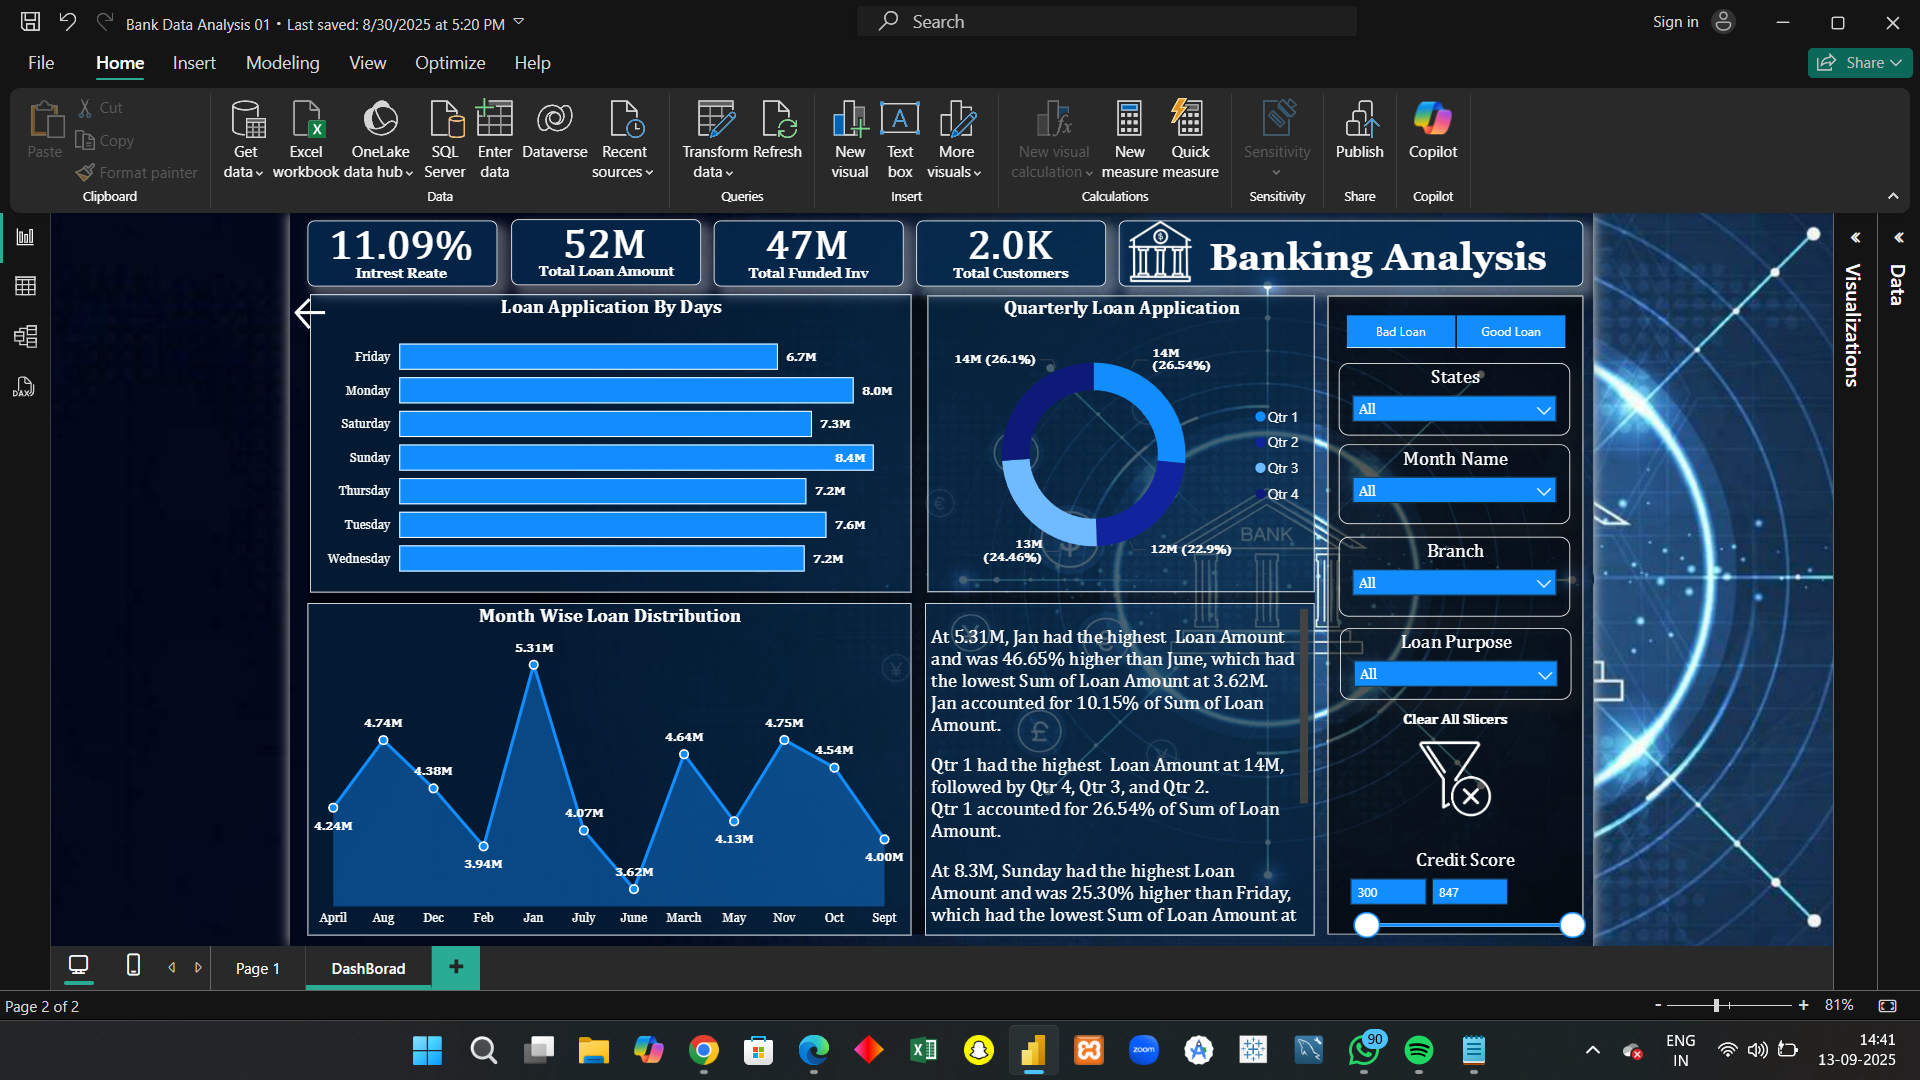

This screenshot's page, from the dashboard's own definition file:
{"tool":"powerbi","page":{"name":"DashBorad","canvas":[1280,720],"ordinal":1},"visuals":[{"type":"shape","box":[813.5,7.2,456.2,65],"z":0},{"type":"shape","box":[190,193.8,60,111.2],"z":0,"group":"g1"},{"type":"shape","box":[17.5,80,405,292.5],"z":1000,"group":"g1"},{"type":"shape","box":[17.5,81.2,988.8,627.5],"z":1000},{"type":"group","id":"g1","title":"Good Loan Chart","box":[17.5,80,405,292.5],"z":2000},{"type":"donutChart","title":"Good Loan VS Bad Loan ","fields":{"Category":["Table1.Good Vs Bad Loan"],"Y":["Sum(Table1.Loan Amount)"]},"box":[17.5,81.2,405,291.2],"z":2000,"group":"g1"},{"type":"card","fields":{"Values":["Sum(Table1.Loan Amount)"]},"box":[155,202.5,135,81.2],"z":3000,"group":"g1"},{"type":"areaChart","title":"Month Wise Loan Distribution","fields":{"Category":["Table1.Month Name"],"Y":["Sum(Table1.Loan Amount)"]},"box":[17.5,382.5,592.5,326.2],"z":3000},{"type":"barChart","title":"Loan Application  By Sates","fields":{"Category":["Table1.State Abbr"],"Y":["Sum(Table1.Loan Amount)"]},"box":[620,382.5,386.2,326.2],"z":4000},{"type":"columnChart","title":" Client Income Range Wise Loan Application","fields":{"Category":["Table1.Client Income Range"],"Y":["Sum(Table1.Loan Amount)"]},"box":[433.8,81.2,572.5,291.2],"z":5000},{"type":"shape","box":[1018.8,81.2,251.2,627.5],"z":6000},{"type":"slicer","title":"Month Name","fields":{"Values":["Table1.Month Name"]},"box":[1030,227.5,227.5,78.8],"z":7000},{"type":"slicer","title":"States","fields":{"Values":["Table1.State Abbr"]},"box":[1030,147.5,227.5,71.2],"z":8000},{"type":"slicer","fields":{"Values":["Table1.Good Vs Bad Loan"]},"box":[1011.2,93.8,265,46.2],"z":9000},{"type":"slicer","title":"Loan Purpose","fields":{"Values":["Table1.Purpose Category"]},"box":[1031.2,407.5,227.5,70],"z":10000},{"type":"slicer","title":"Branch","fields":{"Values":["Table1.Branch Name_x"]},"box":[1030,317.5,227.5,78.8],"z":11000},{"type":"slicer","title":"Credit Score","fields":{"Values":["Dim Client.Credit Score"]},"box":[1028.2,624.5,251.5,95.7],"z":12000},{"type":"shape","box":[17.5,7.5,186.2,65],"z":13000},{"type":"card","fields":{"Values":["Avg(Table1.Int Rate)"]},"box":[15,6.2,188.8,45],"z":14000},{"type":"textbox","box":[20,43.8,178.8,40],"z":15000},{"type":"shape","box":[217.3,6.2,186.2,65],"z":16000},{"type":"card","fields":{"Values":["Sum(Table1.Loan Amount)"]},"box":[214.8,5,188.8,45],"z":17000},{"type":"textbox","box":[239.5,42.5,163.8,40],"z":18000},{"type":"shape","box":[416,7.5,186.2,65],"z":19000},{"type":"card","fields":{"Values":["Sum(Table1.Funded Amount Inv)"]},"box":[413.5,6.2,188.8,45],"z":20000},{"type":"textbox","box":[427.5,43.8,163.8,40],"z":21000},{"type":"shape","box":[614.7,7.5,186.2,65],"z":22000},{"type":"card","fields":{"Values":["CountNonNull(Table1.Account ID)"]},"box":[612.2,6.2,188.8,45],"z":23000},{"type":"textbox","box":[626.1,43.8,163.8,40],"z":24000},{"type":"image","box":[813.5,0.9,80,72.5],"z":25000},{"type":"textbox","box":[873.5,17.2,388.8,62.5],"z":26000},{"type":"image","title":"Clear All Slicers","box":[1077.5,490,132.5,112.5],"z":27000},{"type":"image","title":"i for Good Loan","box":[378.8,82.5,43.8,40],"z":28000},{"type":"image","title":"i for income","box":[962.5,83.8,43.8,40],"z":29000},{"type":"image","title":"i for staes","box":[962.5,382.5,43.8,40],"z":30000},{"type":"image","title":"i for Month","box":[566.2,382.5,43.8,40],"z":31000}]}

Visuals, with their boxes on the page's 1280x720 design canvas (x1, y1, x2, y2). These are canvas units, not pixel positions in the 1920x1080 screenshot, which may show the page scaled, cropped or inside an application window:
shape: bbox=(814, 7, 1270, 72)
shape: bbox=(190, 194, 250, 305)
shape: bbox=(18, 80, 422, 372)
shape: bbox=(18, 81, 1006, 709)
"Good Loan Chart" group: bbox=(18, 80, 422, 372)
"Good Loan VS Bad Loan " donutChart: bbox=(18, 81, 422, 372)
card - Sum(Table1.Loan Amount): bbox=(155, 202, 290, 284)
"Month Wise Loan Distribution" areaChart: bbox=(18, 382, 610, 709)
"Loan Application  By Sates" barChart: bbox=(620, 382, 1006, 709)
" Client Income Range Wise Loan Application" columnChart: bbox=(434, 81, 1006, 372)
shape: bbox=(1019, 81, 1270, 709)
"Month Name" slicer: bbox=(1030, 228, 1258, 306)
"States" slicer: bbox=(1030, 148, 1258, 219)
slicer - Table1.Good Vs Bad Loan: bbox=(1011, 94, 1276, 140)
"Loan Purpose" slicer: bbox=(1031, 408, 1259, 478)
"Branch" slicer: bbox=(1030, 318, 1258, 396)
"Credit Score" slicer: bbox=(1028, 624, 1280, 720)
shape: bbox=(18, 8, 204, 72)
card - Avg(Table1.Int Rate): bbox=(15, 6, 204, 51)
textbox: bbox=(20, 44, 199, 84)
shape: bbox=(217, 6, 404, 71)
card - Sum(Table1.Loan Amount): bbox=(215, 5, 404, 50)
textbox: bbox=(240, 42, 403, 82)
shape: bbox=(416, 8, 602, 72)
card - Sum(Table1.Funded Amount Inv): bbox=(414, 6, 602, 51)
textbox: bbox=(428, 44, 591, 84)
shape: bbox=(615, 8, 801, 72)
card - CountNonNull(Table1.Account ID): bbox=(612, 6, 801, 51)
textbox: bbox=(626, 44, 790, 84)
image: bbox=(814, 1, 894, 73)
textbox: bbox=(874, 17, 1262, 80)
"Clear All Slicers" image: bbox=(1078, 490, 1210, 602)
"i for Good Loan" image: bbox=(379, 82, 423, 122)
"i for income" image: bbox=(962, 84, 1006, 124)
"i for staes" image: bbox=(962, 382, 1006, 422)
"i for Month" image: bbox=(566, 382, 610, 422)
